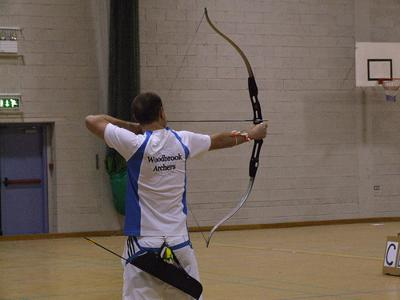person: (87, 92, 272, 300)
